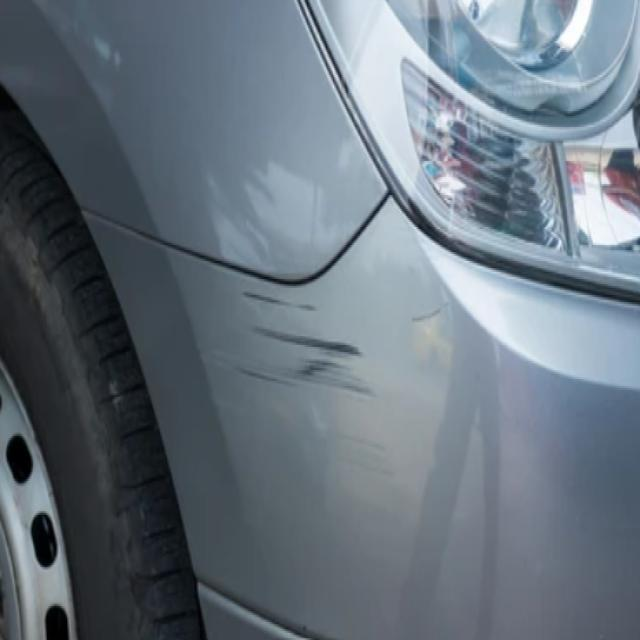scratch: (195, 284, 380, 412)
